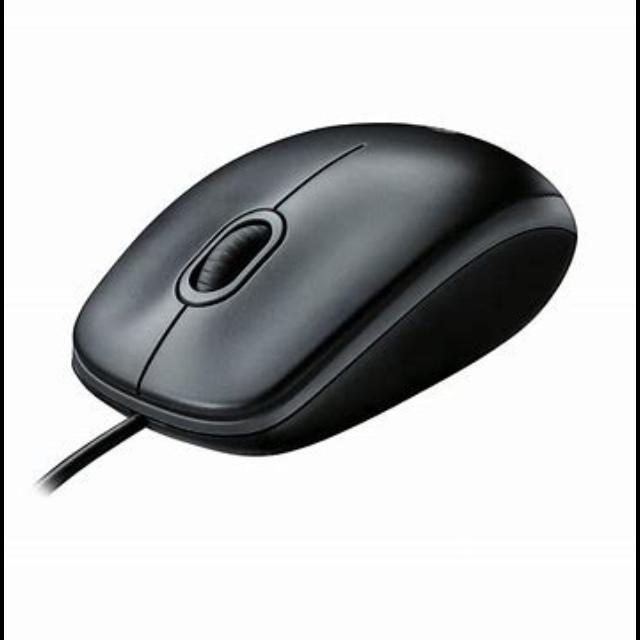Computer-Mouse: (34, 123, 580, 494)
